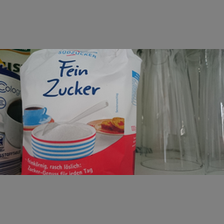tomato_sauce: (19, 48, 142, 174)
